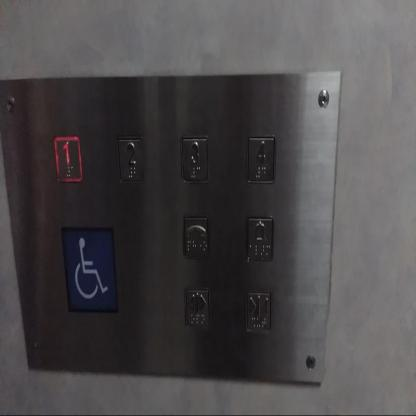1: (53, 134, 82, 182)
2: (116, 134, 144, 182)
3: (181, 135, 208, 183)
4: (246, 134, 276, 182)
CH: (61, 225, 119, 313)
alarm: (244, 216, 274, 261)
call: (180, 214, 210, 260)
close: (244, 288, 272, 331)
open: (183, 285, 210, 327)
